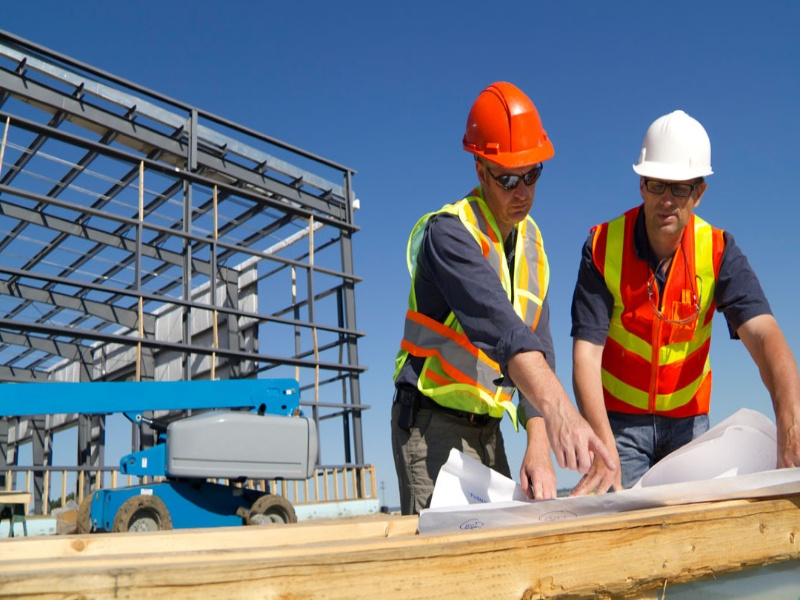casco: (461, 80, 556, 172), (629, 107, 717, 184)
